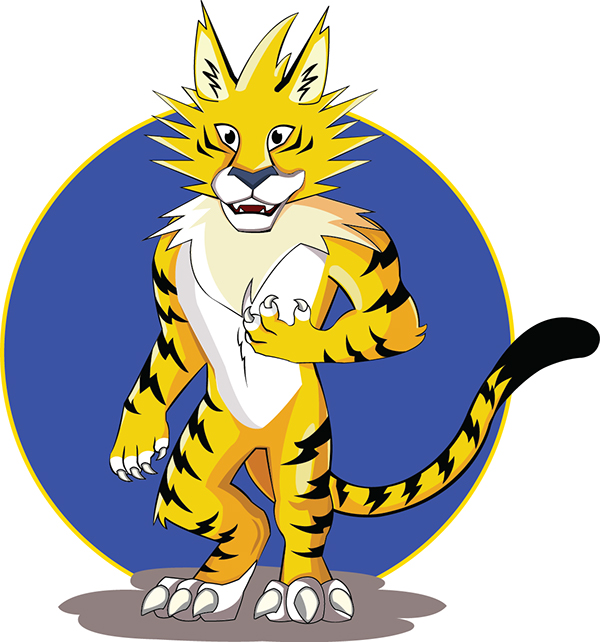cat: (81, 1, 587, 642)
